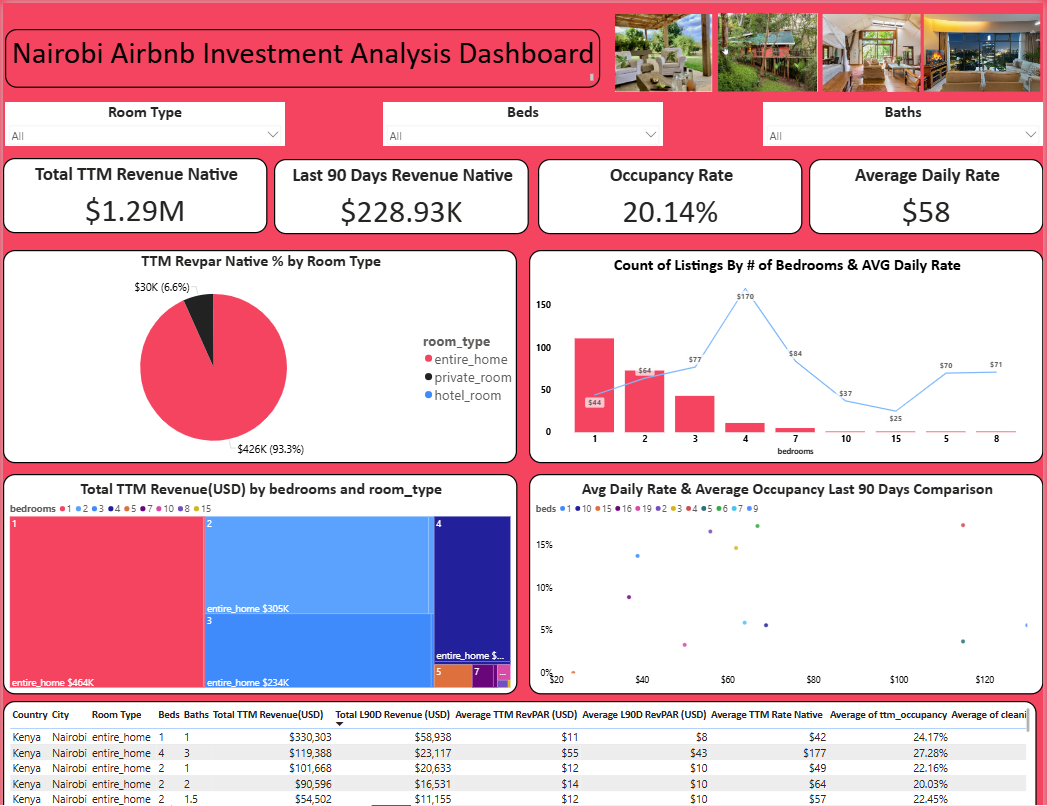

The dashboard page shown, as its layout file describes it:
{"tool":"powerbi","page":{"name":"Nairobi Airbnb Listings Data","canvas":[2600,2200],"ordinal":0},"visuals":[{"type":"card","title":"Total TTM Revenue Native","fields":{"Values":["Listings.Total TTM Revenue(USD)"]},"box":[0,387.8,661.2,187.8],"z":0},{"type":"card","title":"Last 90 Days Revenue Native","fields":{"Values":["Listings.Total L90D Revenue (USD)"]},"box":[677.6,389.8,636.7,187.8],"z":1000},{"type":"card","title":"Occupancy Rate","fields":{"Values":["Avg(Listings.ttm_occupancy)"]},"box":[1336.7,389.8,661.2,187.8],"z":2000},{"type":"card","title":"Average Daily Rate ","fields":{"Values":["Listings.Average TTM Rate Native"]},"box":[2014.3,389.8,585.7,187.8],"z":3000},{"type":"pieChart","title":"TTM Revpar Native % by Room Type","fields":{"Y":["Sum(Listings.ttm_revpar_native)"],"Category":["Listings.room_type"]},"box":[0,618.4,1285,532.7],"z":4000},{"type":"lineStackedColumnComboChart","title":"Count of Listings By # of Bedrooms & AVG Daily Rate","fields":{"Category":["Listings.bedrooms"],"Y":["CountNonNull(Listings.listing_id)"],"Y2":["Listings.Average TTM Rate Native"]},"box":[1314.3,618.4,1285.7,532.7],"z":5000},{"type":"treemap","fields":{"Group":["Listings.bedrooms","Listings.baths","Listings.room_type"],"Details":["Listings.room_type"],"Values":["Listings.Total TTM Revenue(USD)"]},"box":[0,1177.6,1285.7,551],"z":6000},{"type":"scatterChart","title":"Avg Daily Rate & Average Occupancy Last 90 Days Comparison","fields":{"Y":["Avg(Listings.l90d_occupancy)"],"X":["Listings.AVG Daily Rate Native Last 90 Days"],"Series":["Listings.beds"]},"box":[1314.3,1177.6,1285.7,551],"z":7000},{"type":"tableEx","fields":{"Values":["Listings.Country","Listings.City","Listings.room_type","Listings.beds","Listings.baths","Listings.Total TTM Revenue(USD)","Listings.Total L90D Revenue (USD)","Listings.Average TTM RevPAR (USD)","Listings.Average L90D RevPAR (USD)","Listings.Average TTM Rate Native","Avg(Listings.ttm_occupancy)","Avg(Listings.cleaning_fee)"]},"box":[0,1744.9,2583.7,424.5],"z":8000},{"type":"slicer","title":"Room Type","fields":{"Values":["Listings.room_type"]},"box":[4.1,246.9,700,110.2],"z":9000},{"type":"slicer","title":"Baths","fields":{"Values":["Listings.baths"]},"box":[1900,246.2,700,110],"z":10000},{"type":"slicer","title":"Beds","fields":{"Values":["Listings.beds"]},"box":[950,246.2,700,110],"z":11000},{"type":"image","box":[2295,22.5,305,203.8],"z":12000},{"type":"image","box":[2040,21.2,263.8,205],"z":13000},{"type":"image","box":[1781.2,0,258.8,246.2],"z":14000},{"type":"textbox","title":"Nairobi Airbnb Investment Analysis Dashboard","box":[4.1,65.3,1487.8,146.9],"z":15000},{"type":"image","box":[1520,22.5,263.8,205],"z":16000}]}

Visuals, with their boxes on the page's 2600x2200 design canvas (x1, y1, x2, y2). These are canvas units, not pixel positions in the 1047x806 screenshot, which may show the page scaled, cropped or inside an application window:
"Total TTM Revenue Native" card: rect(0, 388, 661, 576)
"Last 90 Days Revenue Native" card: rect(678, 390, 1314, 578)
"Occupancy Rate" card: rect(1337, 390, 1998, 578)
"Average Daily Rate " card: rect(2014, 390, 2600, 578)
"TTM Revpar Native % by Room Type" pieChart: rect(0, 618, 1285, 1151)
"Count of Listings By # of Bedrooms & AVG Daily Rate" lineStackedColumnComboChart: rect(1314, 618, 2600, 1151)
treemap - Listings.bedrooms x Listings.baths: rect(0, 1178, 1286, 1729)
"Avg Daily Rate & Average Occupancy Last 90 Days Comparison" scatterChart: rect(1314, 1178, 2600, 1729)
tableEx - Listings.Country x Listings.City: rect(0, 1745, 2584, 2169)
"Room Type" slicer: rect(4, 247, 704, 357)
"Baths" slicer: rect(1900, 246, 2600, 356)
"Beds" slicer: rect(950, 246, 1650, 356)
image: rect(2295, 22, 2600, 226)
image: rect(2040, 21, 2304, 226)
image: rect(1781, 0, 2040, 246)
"Nairobi Airbnb Investment Analysis Dashboard" textbox: rect(4, 65, 1492, 212)
image: rect(1520, 22, 1784, 228)
